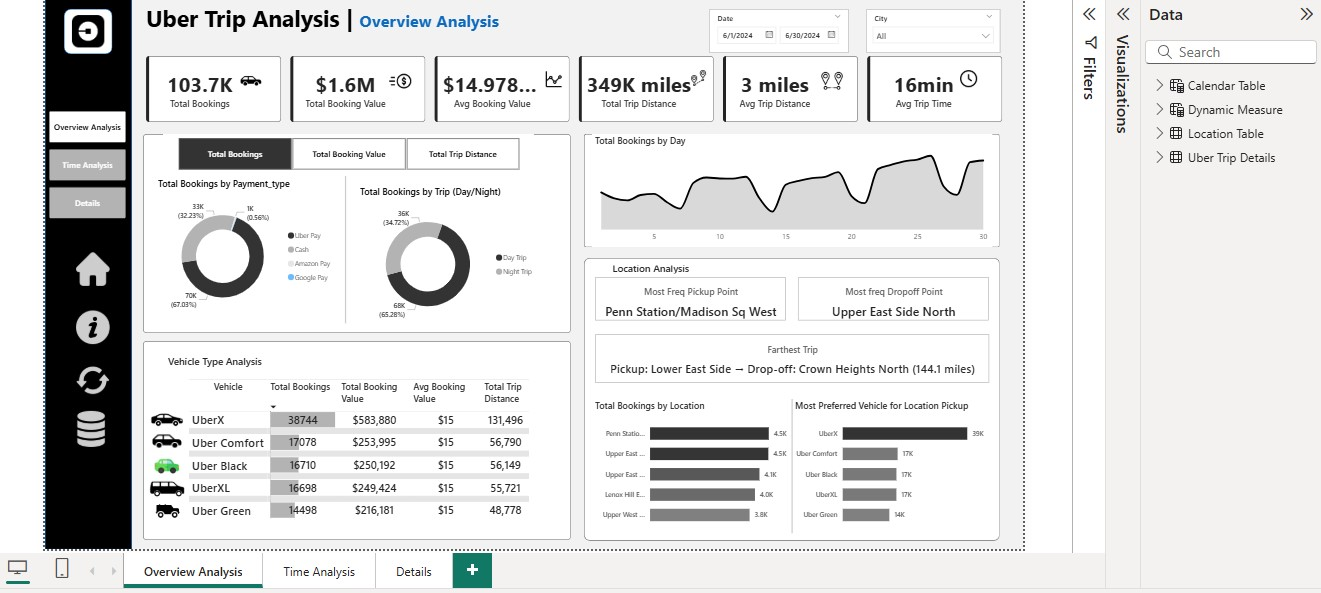

Layout of this report page (visuals, bound fields, positions):
{"tool":"powerbi","page":{"name":"Overview Analysis","canvas":[1600,900],"ordinal":0},"visuals":[{"type":"shape","box":[0,0,142,900.8],"z":0},{"type":"shape","box":[30.6,16.2,79.2,73.8],"z":0,"group":"g1"},{"type":"textbox","box":[159.6,0,640.4,88.2],"z":1000},{"type":"image","box":[30.6,21.6,79.2,63],"z":1000,"group":"g1"},{"type":"cardVisual","fields":{"Data":["Uber Trip Details.Total Bookings","Uber Trip Details.Total Booking Amount","Uber Trip Details.Avg Booking Amount","Uber Trip Details.Total Trip Distance","Uber Trip Details.Avg Trip Distance","Uber Trip Details.Avg Trip Time"]},"box":[160.2,88.2,1414.8,118.8],"z":2000},{"type":"shape","box":[160.2,221.4,700.2,325.8],"z":3000},{"type":"slicer","fields":{"Values":["Dynamic Measure.Dynamic Measure"]},"box":[193.2,220.5,606.8,65.1],"z":4000},{"type":"donutChart","fields":{"Y":["Uber Trip Details.Total Bookings"],"Category":["Uber Trip Details.Payment_type"]},"box":[180,291.6,300.6,239.4],"z":5000},{"type":"donutChart","fields":{"Y":["Uber Trip Details.Total Bookings"],"Category":["Uber Trip Details.Trip (Day/Night)"]},"box":[511.2,304.2,300,239],"z":6000},{"type":"shape","box":[160.2,559.8,700.2,325.8],"z":7000},{"type":"pivotTable","fields":{"Rows":["Uber Trip Details.Vehicle"],"Values":["Uber Trip Details.Total Bookings","Uber Trip Details.Total Booking Value","Uber Trip Details.Avg Booking Value","Uber Trip Details.Total Trip Distance Measure"]},"box":[230.4,617.4,610.2,244.8],"z":8000},{"type":"image","box":[158.4,655.2,82.8,68.4],"z":9000},{"type":"image","box":[157.5,693,84.6,59.4],"z":10000},{"type":"image","box":[154.8,739.8,88.2,50.4],"z":11000},{"type":"image","box":[158.4,765,82.8,72],"z":12000},{"type":"image","box":[164.7,813.6,70.2,48.6],"z":13000},{"type":"card","fields":{"Values":["Uber Trip Details.Title for Grid"]},"box":[181.8,572.4,192.6,45],"z":14000},{"type":"shape","box":[882,221.4,680.4,185.4],"z":15000},{"type":"shape","box":[882,423,680.4,462.6],"z":16000},{"type":"areaChart","fields":{"Category":["Calendar Table.Date.Variation.Date Hierarchy.Day"],"Y":["Uber Trip Details.Total Bookings"]},"box":[894.6,221.4,655.2,185.4],"z":17000},{"type":"cardVisual","fields":{"Data":["Uber Trip Details.Most Freq Pickup Point","Uber Trip Details.Most freq Dropoff Point"]},"box":[894.6,450,655.2,81],"z":18000},{"type":"cardVisual","fields":{"Data":["Uber Trip Details.Farthest Trip"]},"box":[894.6,543.6,655.2,90],"z":19000},{"type":"barChart","fields":{"Category":["Location Table.Location"],"Y":["Uber Trip Details.Total Bookings"]},"box":[894.6,655.2,327.6,219.6],"z":20000},{"type":"barChart","title":"Most Preferred Vehicle for Location Pickup","fields":{"Category":["Uber Trip Details.Vehicle"],"Y":["CountNonNull(Uber Trip Details.PULocationID)"]},"box":[1222.2,655.2,327.6,219.6],"z":21000},{"type":"shape","box":[473.4,289.8,37.8,241.2],"z":22000},{"type":"shape","box":[1202.4,655.2,39.6,219.6],"z":23000},{"type":"card","fields":{"Values":["Uber Trip Details.Title for Location"]},"box":[894.6,426.6,192.6,23.4],"z":24000},{"type":"slicer","fields":{"Values":["Calendar Table.Date"]},"box":[1087.2,16.2,228.6,72],"z":25000},{"type":"slicer","fields":{"Values":["Location Table.City"]},"box":[1342.8,16.2,219.6,72],"z":26000},{"type":"pageNavigator","box":[7.2,183.6,126,178.2],"z":27000},{"type":"group","id":"g1","title":"Group 1","box":[30.6,16.2,79.2,73.8],"z":28000},{"type":"image","box":[45,406.8,64.8,68.4],"z":29000},{"type":"image","box":[45,500.4,64.8,72],"z":30000},{"type":"image","box":[45,592.2,64.8,63],"z":31000},{"type":"image","box":[40.9,666,68.8,74.4],"z":32000}]}

Visuals, with their boxes on the page's 1600x900 design canvas (x1, y1, x2, y2). These are canvas units, not pixel positions in the 1321x593 screenshot, which may show the page scaled, cropped or inside an application window:
shape: 0,0,142,901
shape: 31,16,110,90
textbox: 160,0,800,88
image: 31,22,110,85
cardVisual - Uber Trip Details.Total Bookings x Uber Trip Details.Total Booking Amount: 160,88,1575,207
shape: 160,221,860,547
slicer - Dynamic Measure.Dynamic Measure: 193,220,800,286
donutChart - Uber Trip Details.Total Bookings x Uber Trip Details.Payment_type: 180,292,481,531
donutChart - Uber Trip Details.Total Bookings x Uber Trip Details.Trip (Day/Night): 511,304,811,543
shape: 160,560,860,886
pivotTable - Uber Trip Details.Vehicle x Uber Trip Details.Total Bookings: 230,617,841,862
image: 158,655,241,724
image: 158,693,242,752
image: 155,740,243,790
image: 158,765,241,837
image: 165,814,235,862
card - Uber Trip Details.Title for Grid: 182,572,374,617
shape: 882,221,1562,407
shape: 882,423,1562,886
areaChart - Calendar Table.Date.Variation.Date Hierarchy.Day x Uber Trip Details.Total Bookings: 895,221,1550,407
cardVisual - Uber Trip Details.Most Freq Pickup Point x Uber Trip Details.Most freq Dropoff Point: 895,450,1550,531
cardVisual - Uber Trip Details.Farthest Trip: 895,544,1550,634
barChart - Location Table.Location x Uber Trip Details.Total Bookings: 895,655,1222,875
"Most Preferred Vehicle for Location Pickup" barChart: 1222,655,1550,875
shape: 473,290,511,531
shape: 1202,655,1242,875
card - Uber Trip Details.Title for Location: 895,427,1087,450
slicer - Calendar Table.Date: 1087,16,1316,88
slicer - Location Table.City: 1343,16,1562,88
pageNavigator: 7,184,133,362
"Group 1" group: 31,16,110,90
image: 45,407,110,475
image: 45,500,110,572
image: 45,592,110,655
image: 41,666,110,740
